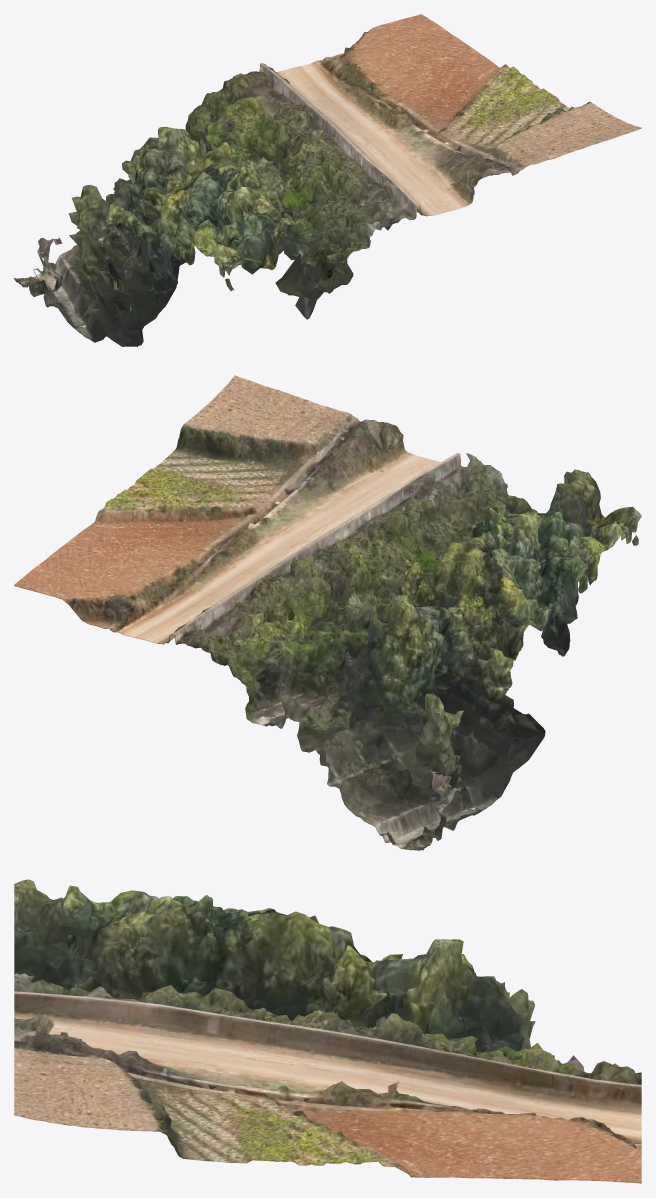
File: BlockYAYB_L19_13.glb
3 renders of one model, top to bottom at view 1: azimuth 30°, elevation 25°; view 2: azimuth 150°, elevation 25°; view 3: azimuth 270°, elevation 25°, orthographic. The views are drawn at different scales.
Visible parts, largest first — view 1: rtc; view 2: rtc; view 3: rtc.
Boxes of the visible parts, <box> form: rtc: <box>14,14,641,346</box>; rtc: <box>14,375,641,850</box>; rtc: <box>14,879,641,1183</box>.
Bounding box in the file's own units: 35.33 × 18.27 × 33.2.
Materials: 3 (3 with a texture image).
